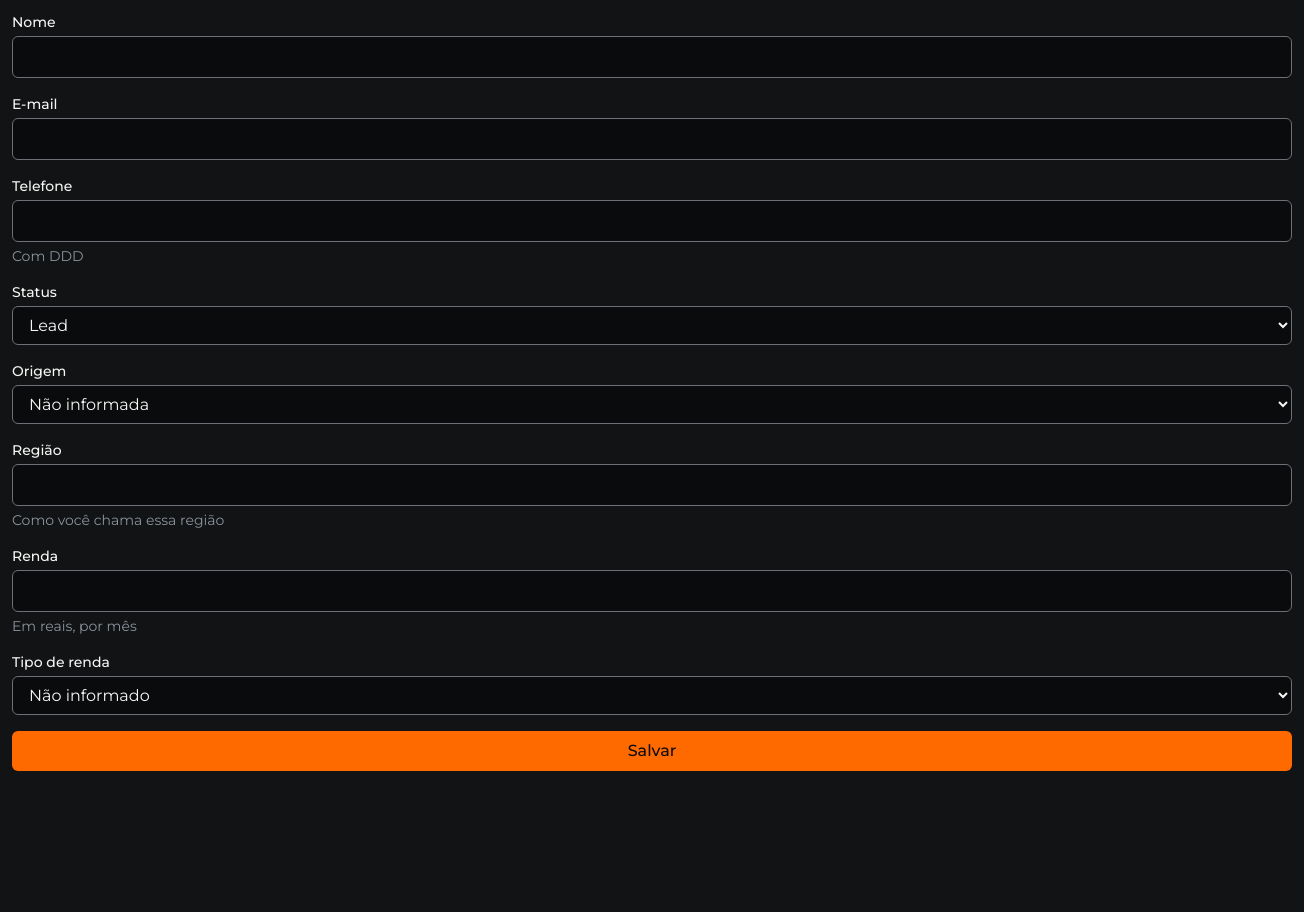
Test: FormularioDeCliente › recusa nome com menos de 2 caracteres, sem enviar
Type "A" into the field labelled "Nome".
click(652, 57); type("A")  # box top-left (12, 36), bottom-right (1292, 78)
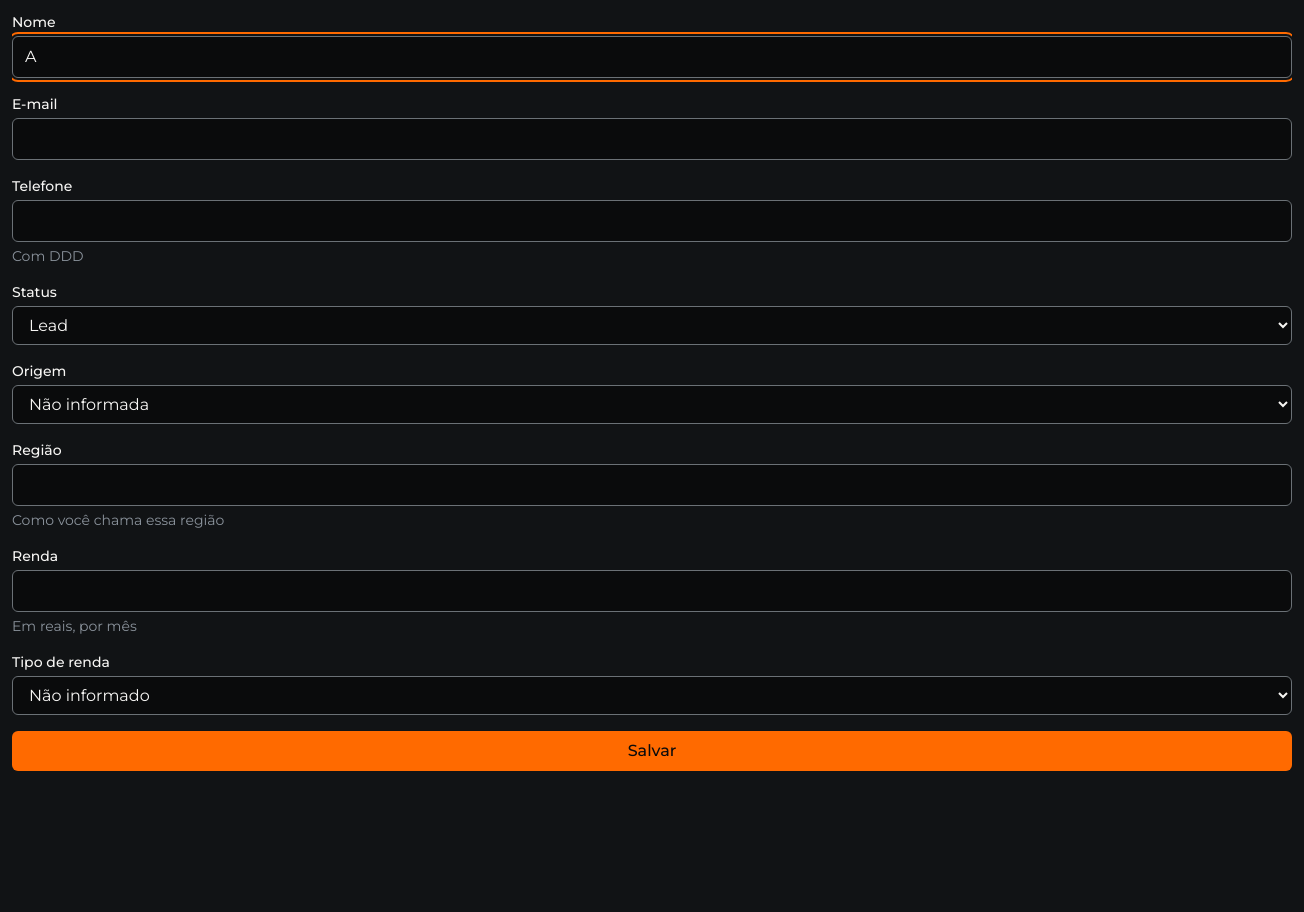
Click the button "Salvar".
click(652, 751)  # box top-left (12, 731), bottom-right (1292, 771)
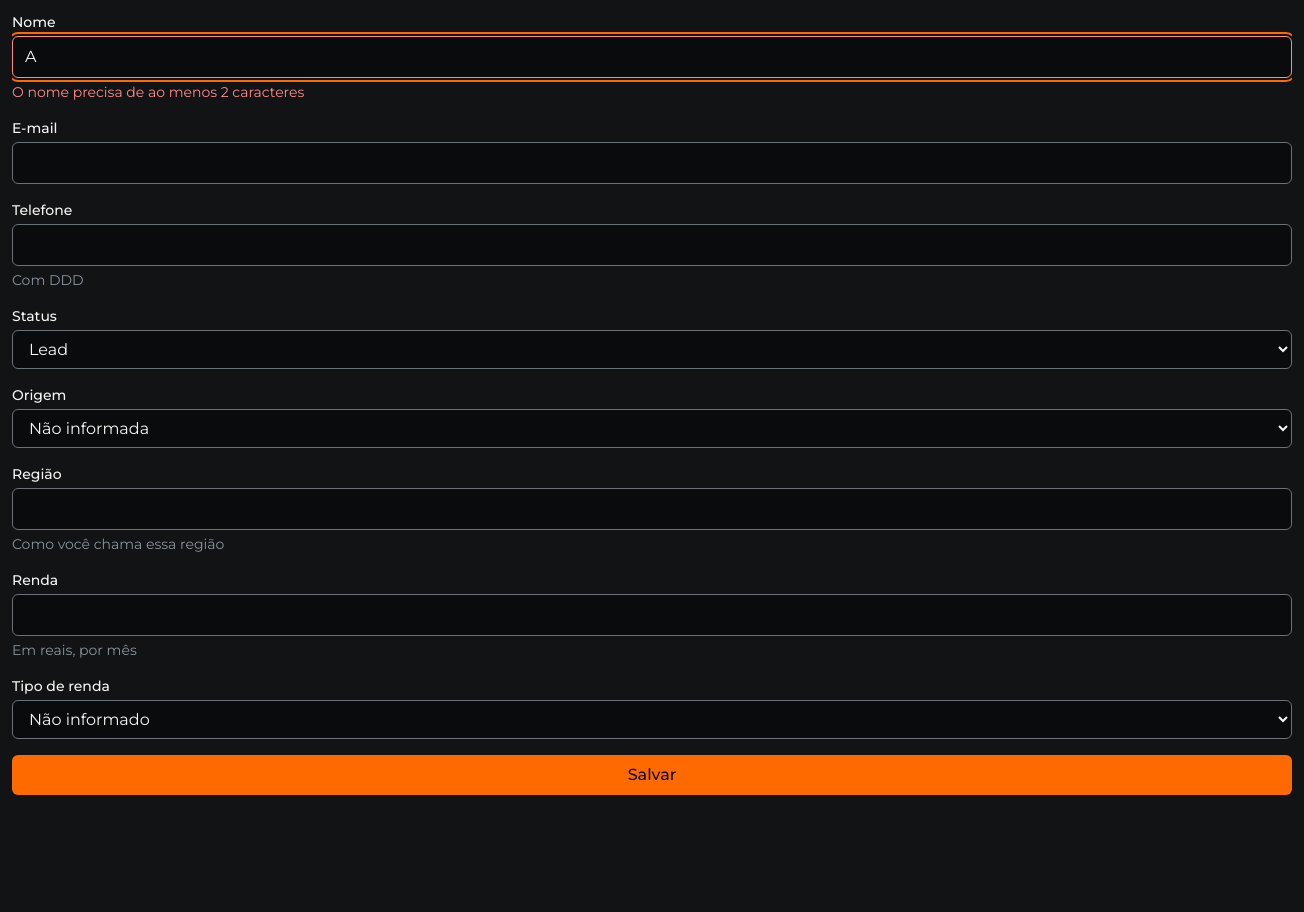
Check: the text "O nome precisa de ao menos 2 caracteres" is shown, box top-left (12, 83), bottom-right (304, 101)
